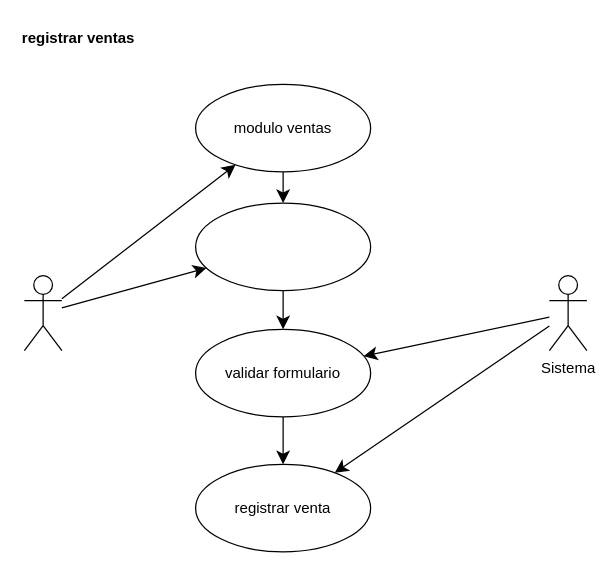
The diagram is 616 pixels wide and 574 high, and some of its shapes have lost their labels. The centre of each missing label's shape, as x and y in pixels:
Admin: the point at 42,312
llenar formulario: the point at 282,246
